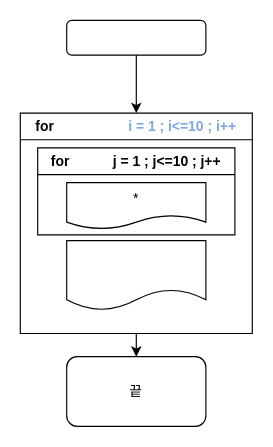
Image size: 273x447. Some labels were removed from this diagram. The centre of each missing label's shape, as x and y in pixels:
"시작" goes at point (136, 37).
"줄 바꿈" goes at point (136, 275).
